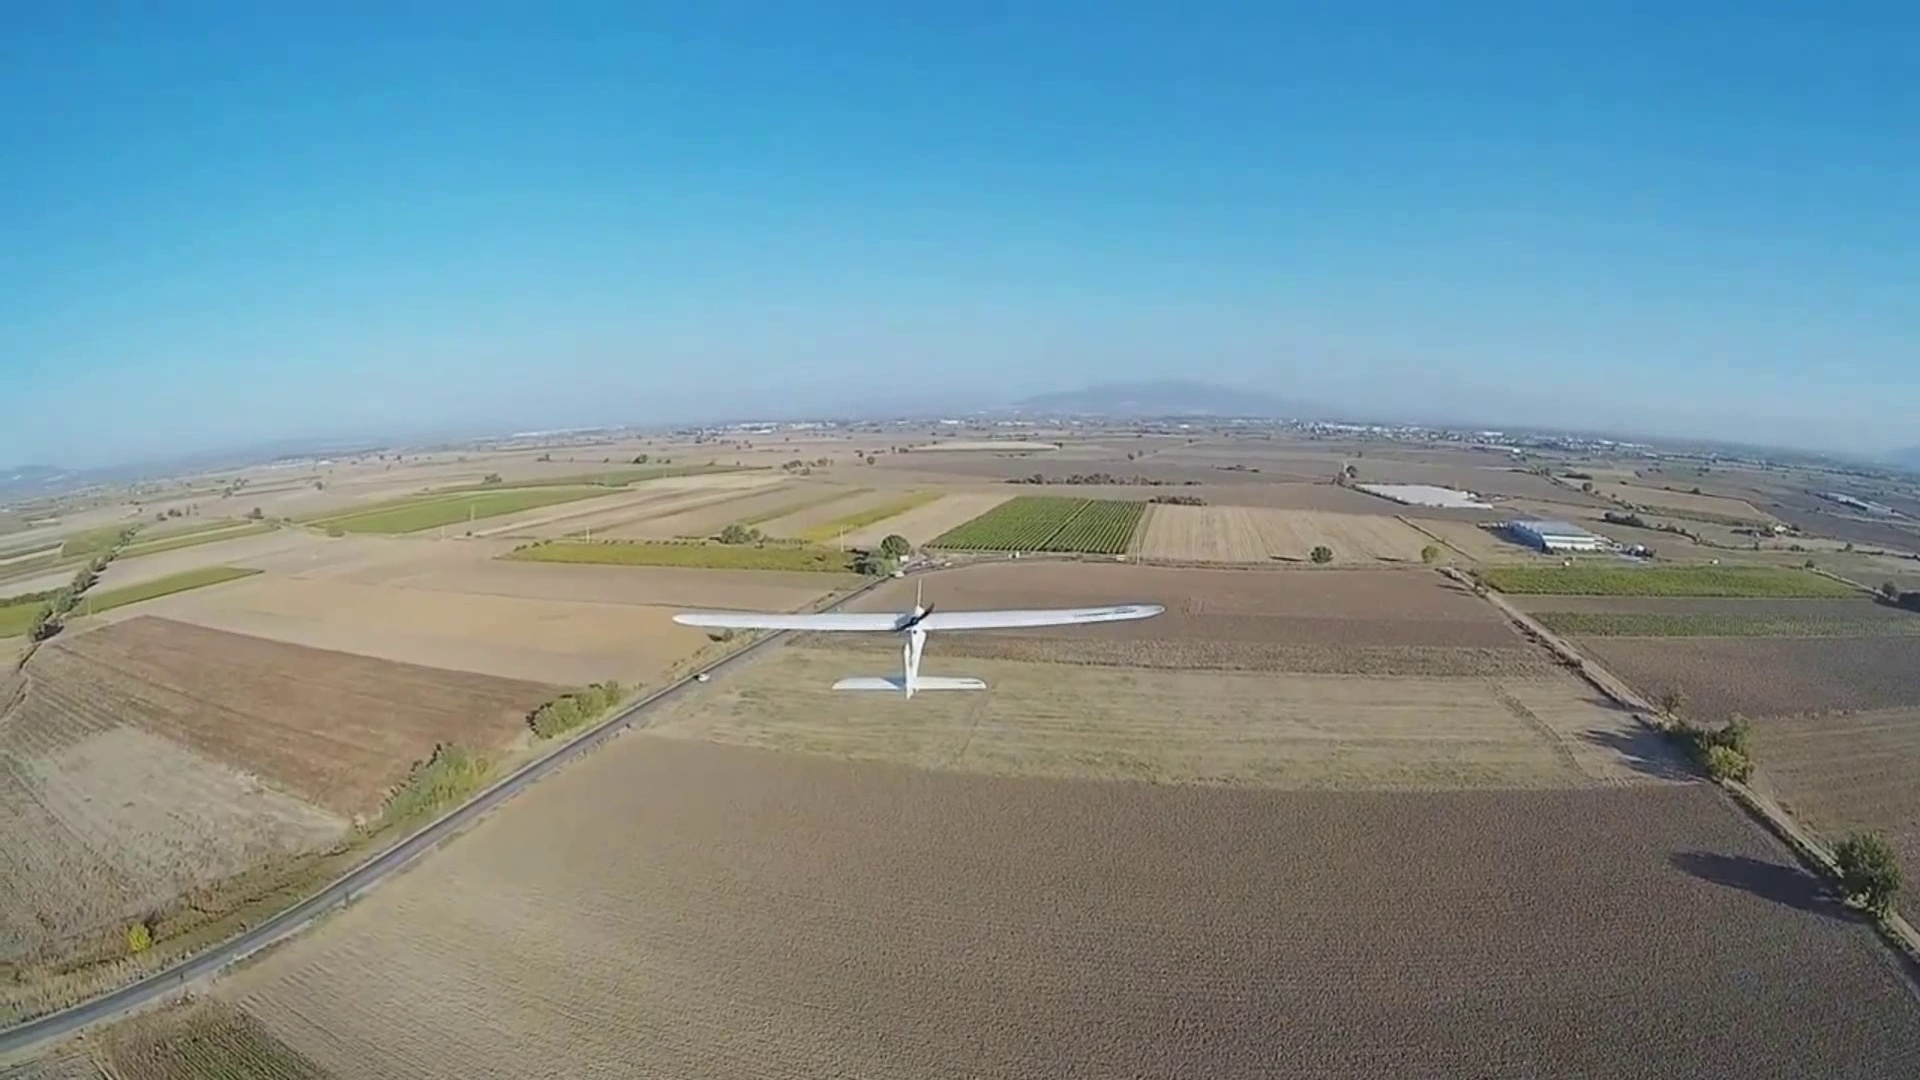airplane: (672, 553, 1163, 695)
